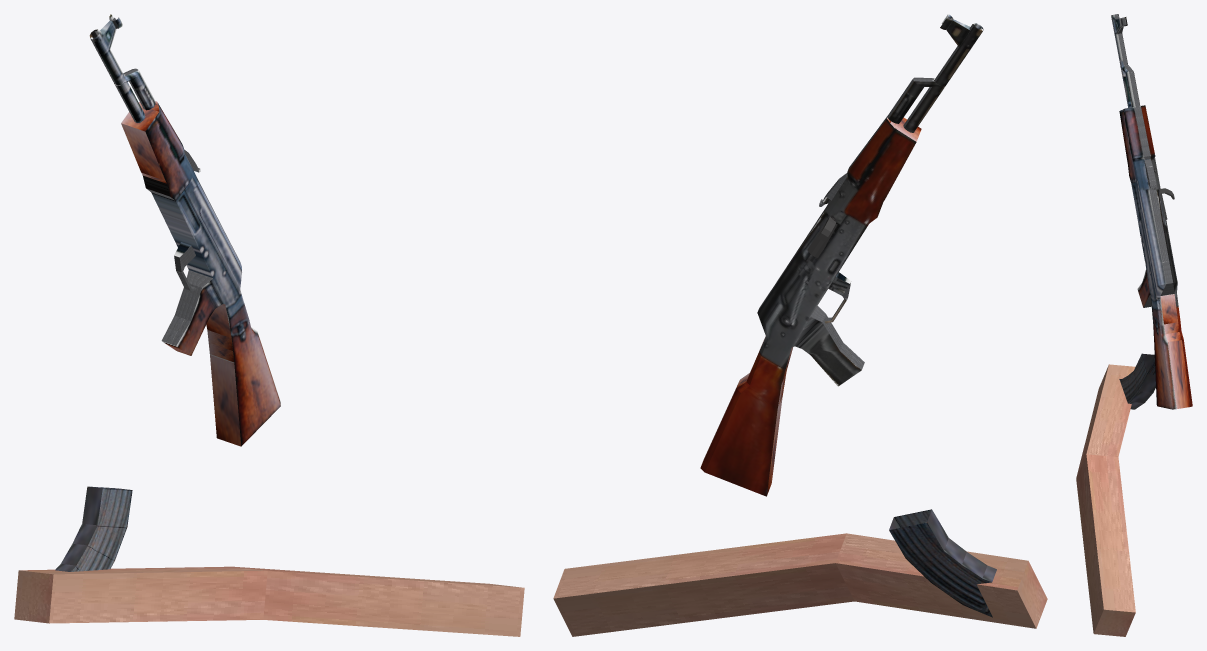
The picture shows the model from 3 angles, left to right: view 1: azimuth 30°, elevation 25°; view 2: azimuth 150°, elevation 25°; view 3: azimuth 270°, elevation 25°; orthographic projection. The views are drawn at different scales.
Visible parts, largest first — view 1: Cube.001_Cube.006, Cube.007_Cube.005, Cube.002_Cube.003; view 2: Cube.001_Cube.006, Cube.007_Cube.005, Cube.002_Cube.003; view 3: Cube.001_Cube.006, Cube.007_Cube.005, Cube.002_Cube.003.
Part boxes in pixels (x1,y1,x2,y2): Cube.001_Cube.006: [14, 566, 524, 636]; Cube.007_Cube.005: [89, 14, 280, 446]; Cube.002_Cube.003: [55, 486, 132, 571]; Cube.001_Cube.006: [553, 533, 1047, 636]; Cube.007_Cube.005: [700, 14, 983, 496]; Cube.002_Cube.003: [889, 509, 996, 617]; Cube.001_Cube.006: [1076, 364, 1135, 636]; Cube.007_Cube.005: [1111, 14, 1192, 409]; Cube.002_Cube.003: [1119, 353, 1155, 409].
Bounding box in the file's own units: 9.37 × 12.95 × 2.78.
